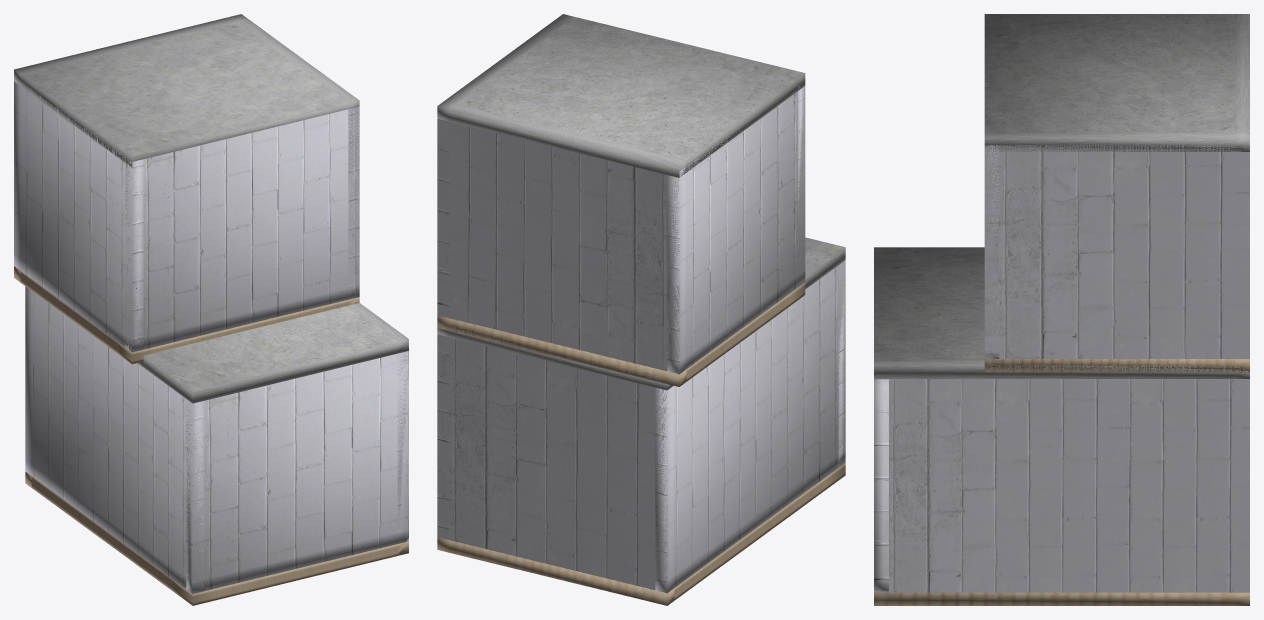
Rendered from Level2.fbx.
The picture shows the model from 3 angles, left to right: view 1: azimuth 30°, elevation 25°; view 2: azimuth 150°, elevation 25°; view 3: azimuth 270°, elevation 25°; orthographic projection. The views are drawn at different scales.
Parts seen in each view (by area): view 1: Cube.011, Cube.002, Cube.004, Cube.017, Cube.013, Cube.008, Cube, Cube.009, Cube.012, Cube.003; view 2: Cube.010, Cube.001, Cube.004, Cube.017, Cube.013, Cube, Cube.009, Cube.008, Cube.003, Cube.012, Cube.002; view 3: Cube.003, Cube.012, Cube.017, Cube.008, Cube, Cube.009, Cube.002.
Part boxes in pixels (box(x1,y1,x2,y2)): Cube.011: box(125, 107, 359, 351); Cube.002: box(186, 351, 408, 592); Cube.004: box(25, 286, 204, 593); Cube.017: box(14, 14, 359, 167); Cube.013: box(14, 80, 143, 352); Cube.008: box(138, 303, 408, 403); Cube: box(25, 472, 408, 605); Cube.009: box(14, 266, 359, 364); Cube.012: box(348, 106, 359, 293); Cube.003: box(397, 351, 408, 541); Cube.010: box(449, 122, 679, 373); Cube.001: box(449, 337, 667, 592); Cube.004: box(655, 260, 845, 593); Cube.017: box(437, 14, 805, 177); Cube.013: box(667, 86, 805, 374); Cube: box(437, 463, 845, 605); Cube.009: box(437, 282, 805, 386); Cube.008: box(437, 237, 845, 390); Cube.003: box(437, 334, 449, 539); Cube.012: box(437, 119, 449, 317); Cube.002: box(838, 281, 845, 465); Cube.003: box(874, 379, 1249, 592); Cube.012: box(984, 145, 1249, 358); Cube.017: box(984, 14, 1249, 151); Cube.008: box(874, 247, 1249, 378); Cube: box(874, 592, 1249, 605); Cube.009: box(984, 359, 1249, 372); Cube.002: box(874, 379, 888, 591).
Bounding box in the file's own units: 40 × 70 × 51.
